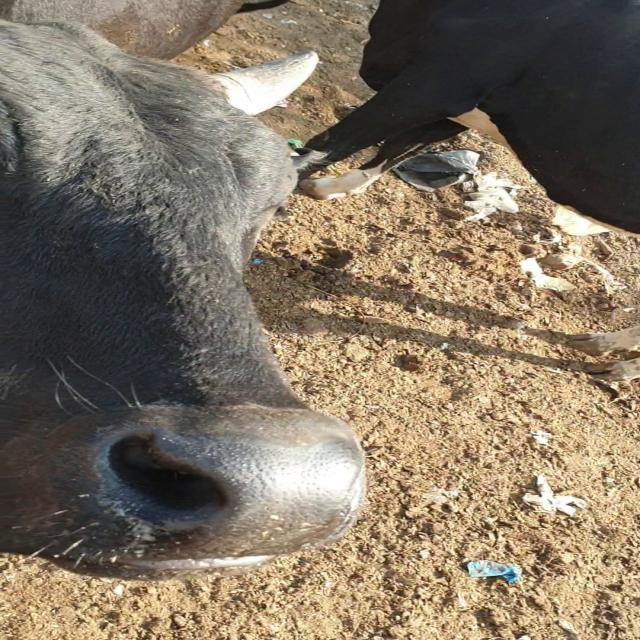cowFace: (0, 36, 330, 614)
